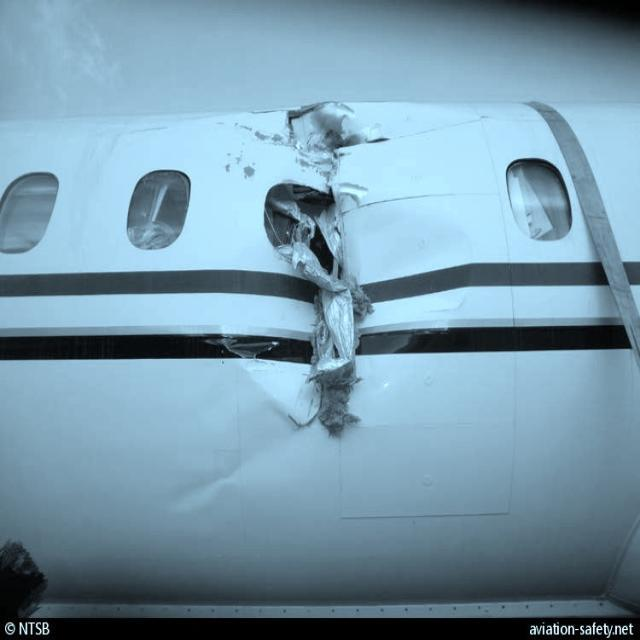crack: (257, 104, 395, 443)
dent: (158, 414, 329, 513), (367, 202, 475, 338)
